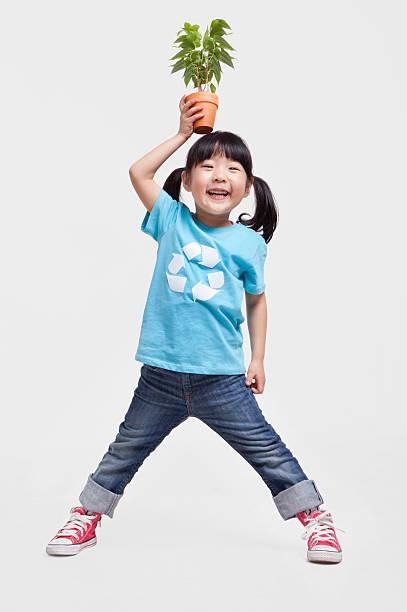Human: (94, 99, 354, 582)
